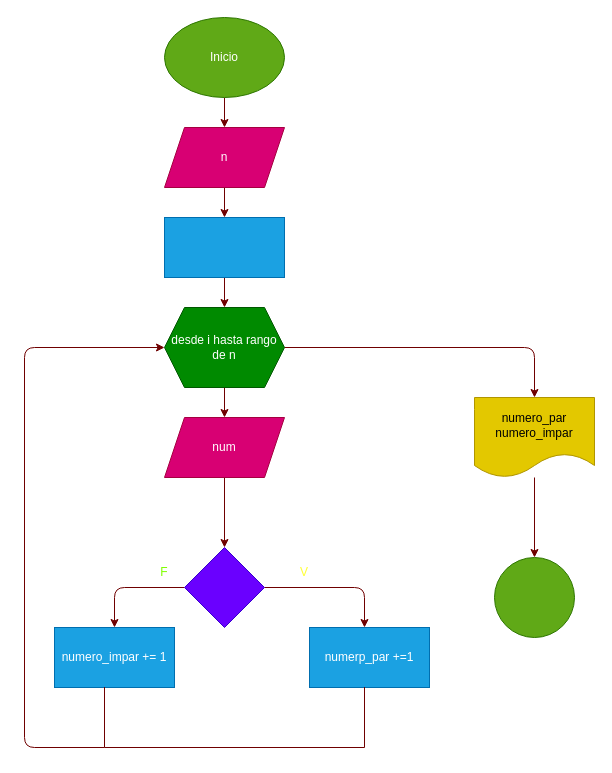
The diagram is 612 pixels wide and 773 high, and some of its shapes have lost their labels. Each missing label, with the centre of its shape:
Fin: (x=534, y=597)
num %2== 0: (x=224, y=587)
numero_par=0 numero_impar=0: (x=224, y=247)
